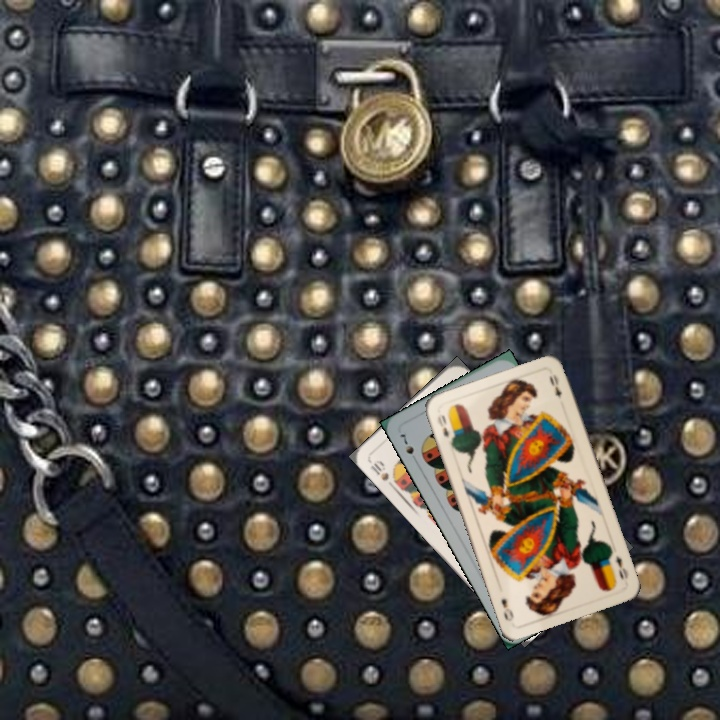EO: (611, 551, 631, 582), (433, 410, 452, 441)
S10: (366, 456, 400, 486)
S7: (396, 430, 420, 466)
